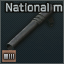M1911A1 .45 ACP National Match barrel: (0, 0, 64, 64)
